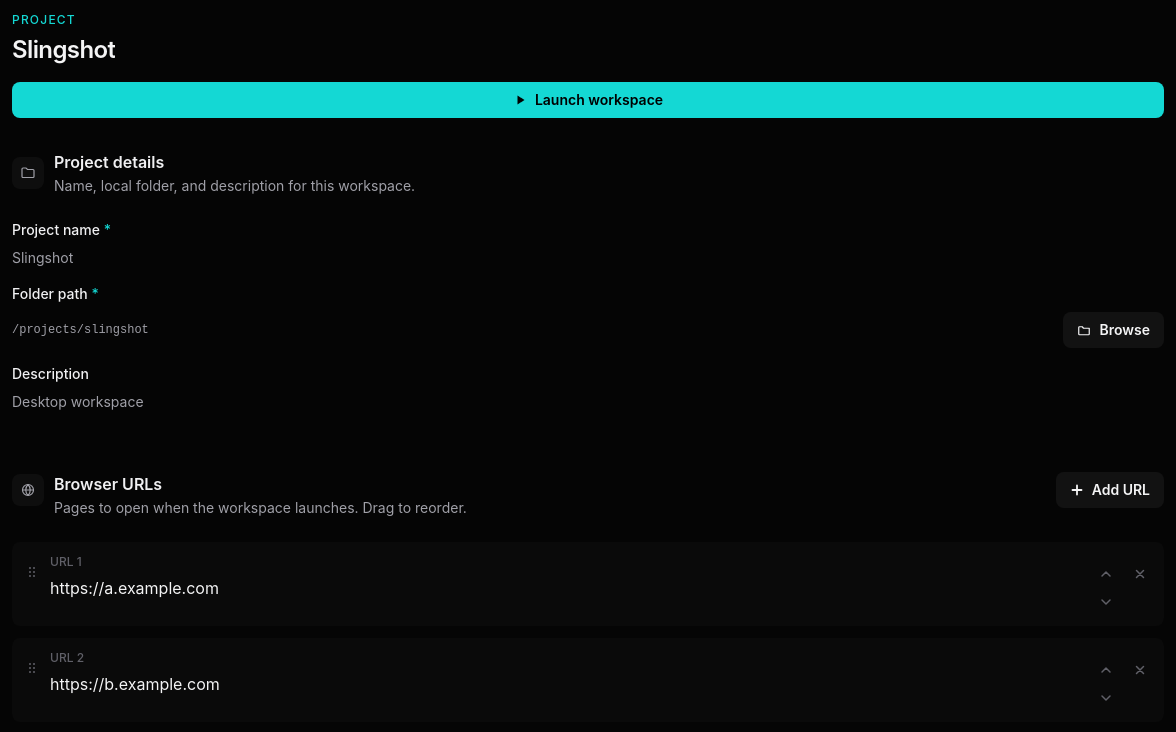
it: ProjectDetailPage › removes a single URL when there are multiple, leaving the rest in place
The image size is (1176, 732).
Click the button named "Remove URL 1" at (1140, 574), box [1128,562,1152,586]
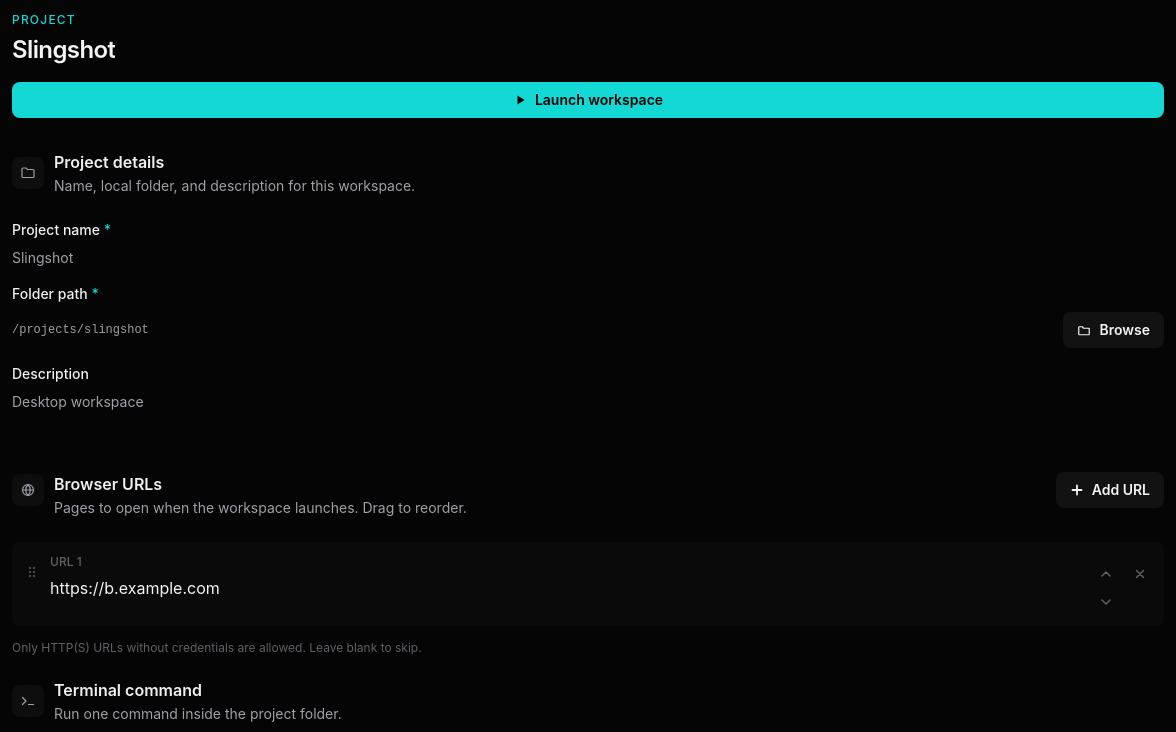
Expected: the number of fields labelled "URL 1" is 1, [50,576,298,600]
Expected: the field labelled "URL 1" holds "https://b.example.com", [50,576,298,600]
